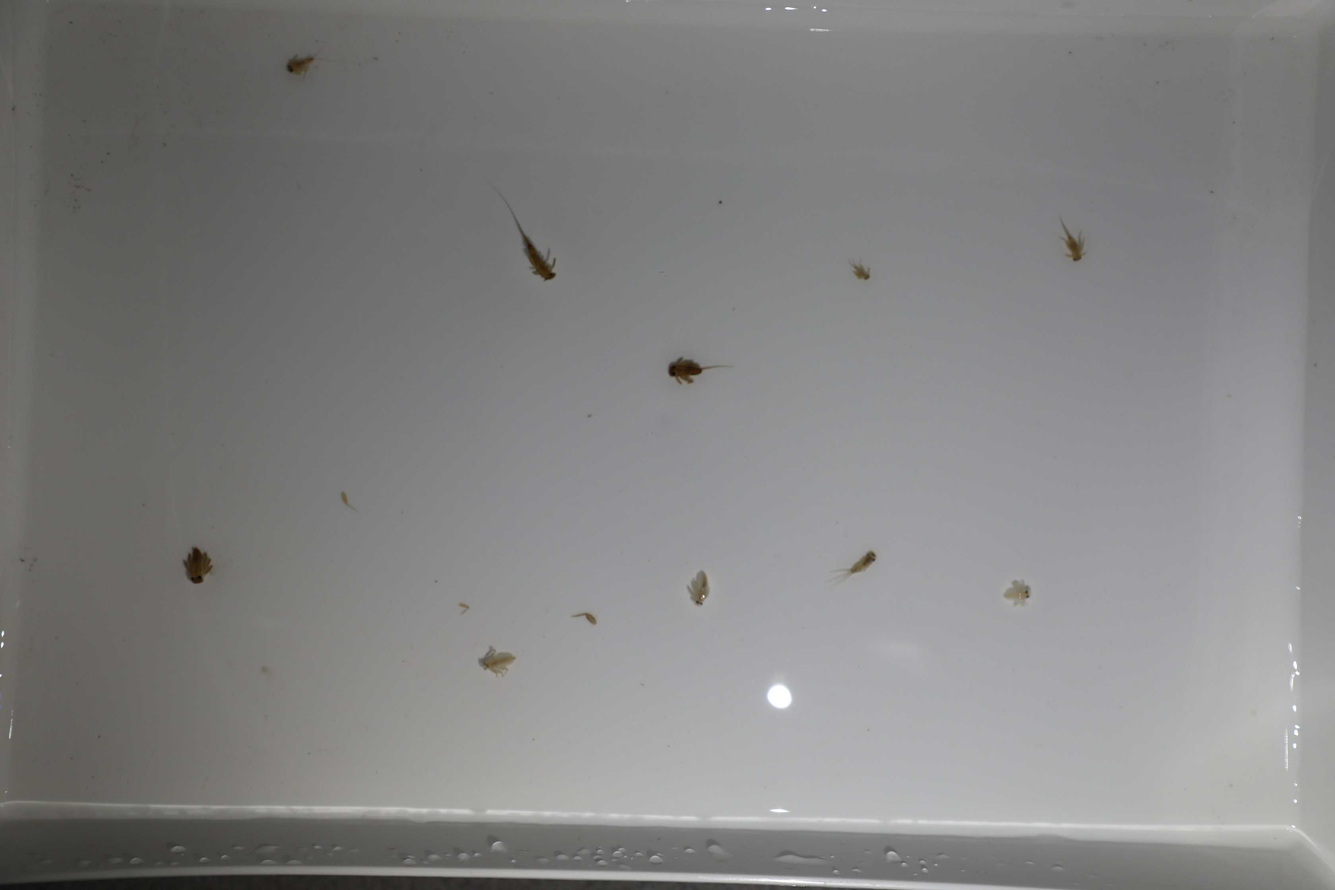Mayfly: (490, 185, 563, 286), (652, 347, 743, 390), (1050, 206, 1096, 269), (821, 547, 877, 589), (279, 50, 343, 78), (175, 540, 211, 589), (472, 641, 517, 679), (991, 575, 1040, 608), (685, 566, 715, 608), (842, 254, 875, 286)
